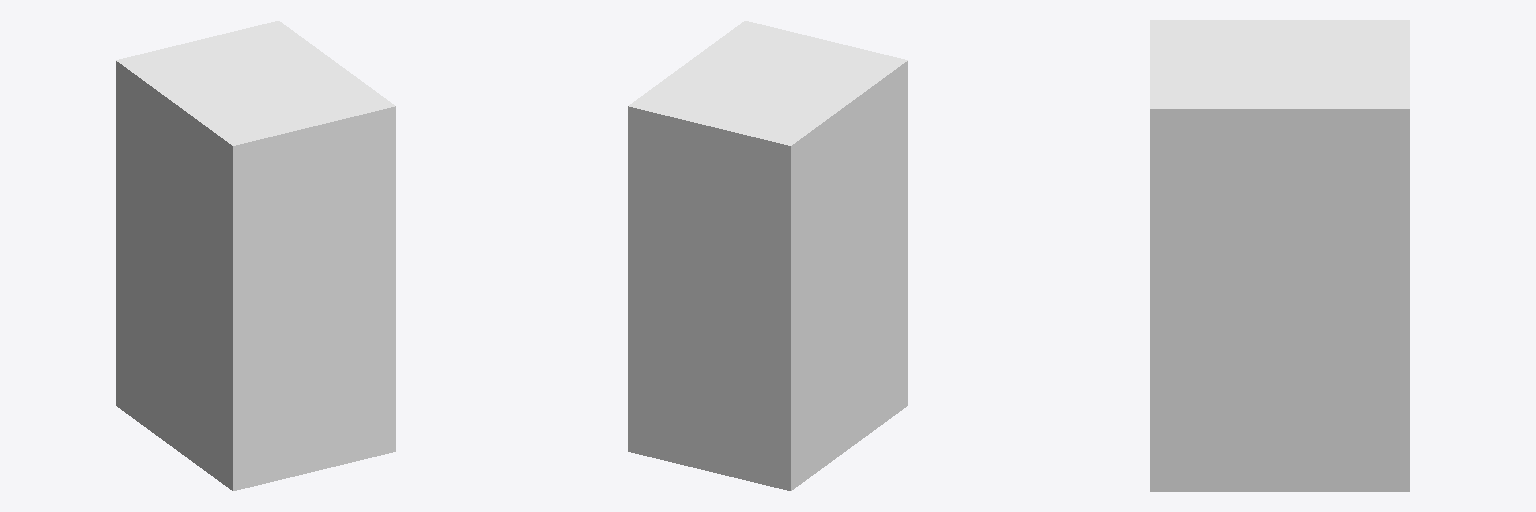
The robot description file, URDF, robot "myfirst":
<?xml version="1.0"?>
<robot name="myfirst">
    <material name="white">
    <color rgba="1 1 1 1"/>
  </material>

  <link name="bot">
    <visual>
      <geometry>
        <box size=" 0.45 0.56 0.91"/>
      </geometry>
      <origin rpy="0 0 0" xyz="0 0 0.455"/>
      <material name="white"/>
    </visual>
  </link>
</robot>

--- Render facts (derived) ---
The picture shows the robot from 3 angles, left to right: view 1: azimuth 30°, elevation 25°; view 2: azimuth 150°, elevation 25°; view 3: azimuth 270°, elevation 25°; orthographic projection.
Model myfirst with 1 links and 0 joints (none), rooted at bot, posed every joint at zero.
Visible links, largest first — view 1: bot; view 2: bot; view 3: bot.
Link boxes in pixels (left/top/right/bottom): bot: left=116, top=21, right=395, bottom=490; bot: left=628, top=21, right=907, bottom=490; bot: left=1150, top=20, right=1409, bottom=491.
Bounding box of the posed robot: 0.45 × 0.56 × 0.91 m (x, y, z).
Geometry: primitives only (box / cylinder / sphere), no mesh files.